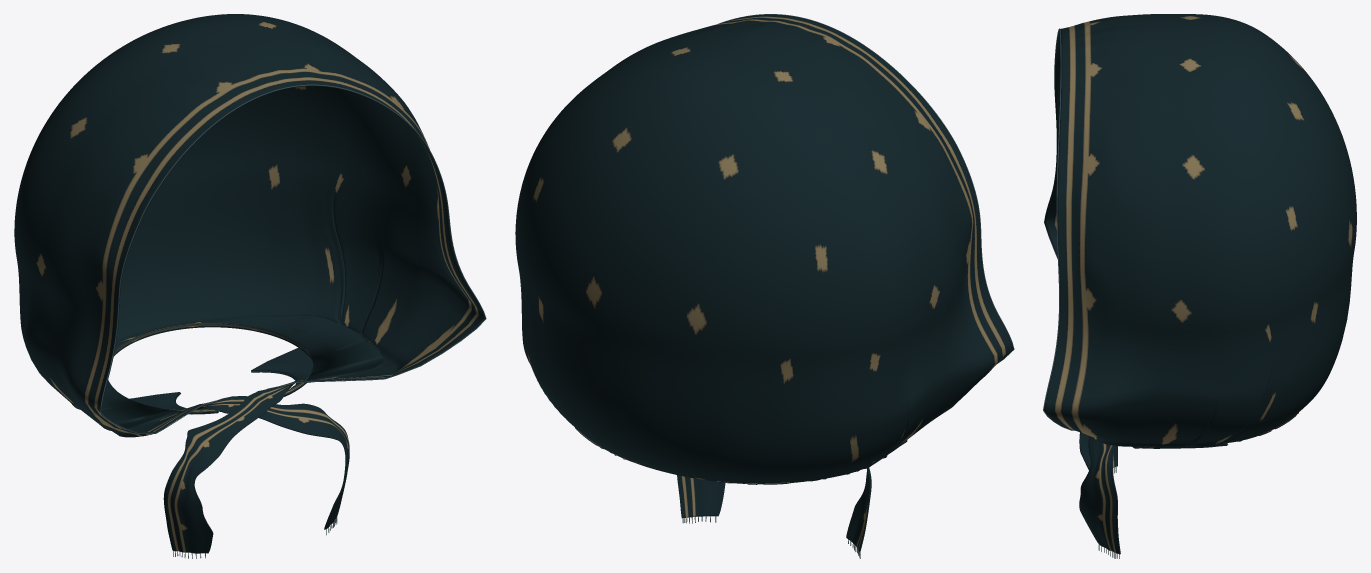
The model's file is Feminine-straight-tank-pashmina250-headgear.glb.
The picture shows the model from 3 angles, left to right: view 1: azimuth 30°, elevation 25°; view 2: azimuth 150°, elevation 25°; view 3: azimuth 270°, elevation 25°; orthographic projection. The views are drawn at different scales.
Visible parts, largest first — view 1: 226 headgear / Headwear / continuous woven pashmina239, 226 headgear / Headwear / face edge239; view 2: 226 headgear / Headwear / continuous woven pashmina239, 226 headgear / Headwear / face edge239; view 3: 226 headgear / Headwear / continuous woven pashmina239, 226 headgear / Headwear / face edge239.
Part boxes in pixels (box(x1,y1,x2,y2)): 226 headgear / Headwear / continuous woven pashmina239: box(14, 14, 485, 553); 226 headgear / Headwear / face edge239: box(100, 84, 486, 434); 226 headgear / Headwear / continuous woven pashmina239: box(515, 14, 1013, 552); 226 headgear / Headwear / face edge239: box(718, 14, 1014, 363); 226 headgear / Headwear / continuous woven pashmina239: box(1044, 14, 1356, 554); 226 headgear / Headwear / face edge239: box(1043, 28, 1073, 430).
Bounding box in the file's own units: 1.16 × 1.39 × 0.8137.
Materials: 3 (1 with a texture image).
